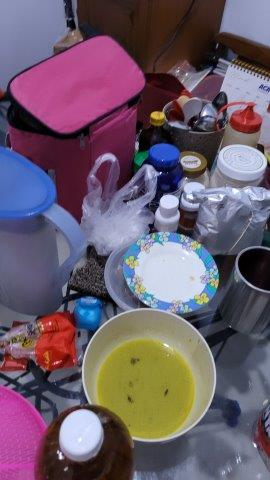plastik: (70, 159, 158, 245)
